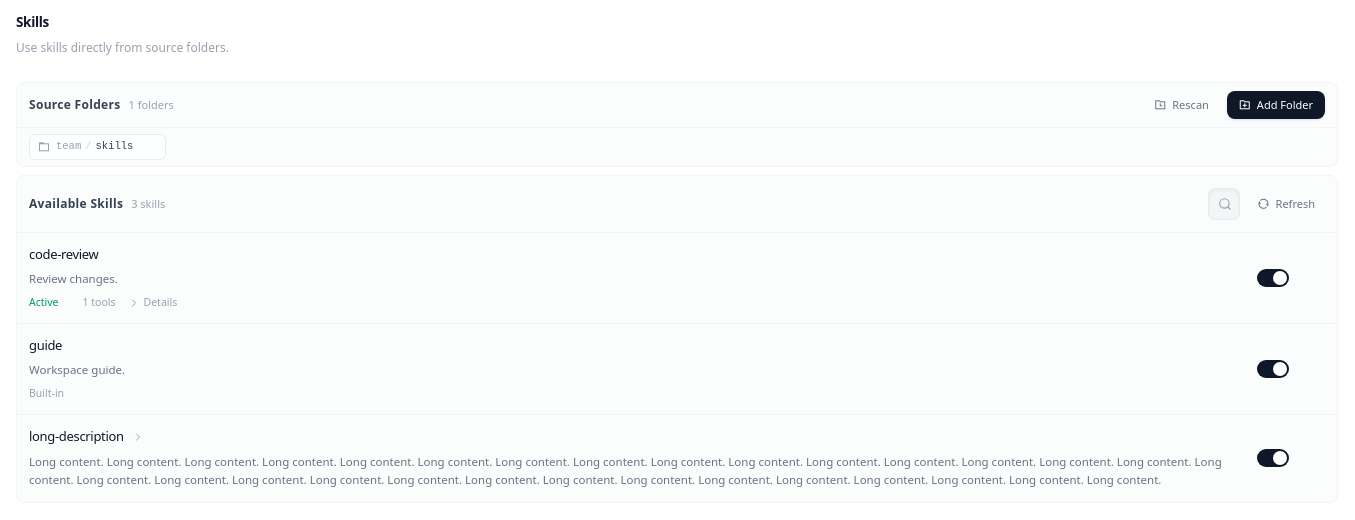
Test case: offers accessible expansion only for truncated descriptions
The image size is (1355, 520).
Click the button named "Expand description for long-description": (138, 437) [128,427,148,447]
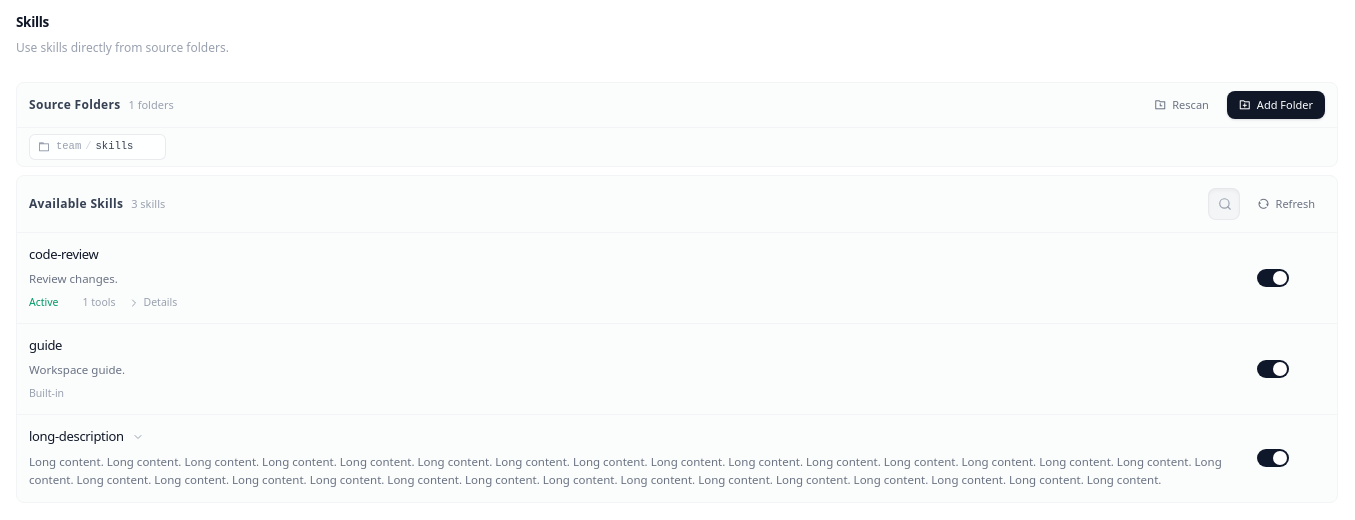
Expected: the button named "Collapse description for long-description" is expanded
Click the button named "Collapse description for long-description": (138, 437) [128,427,148,447]
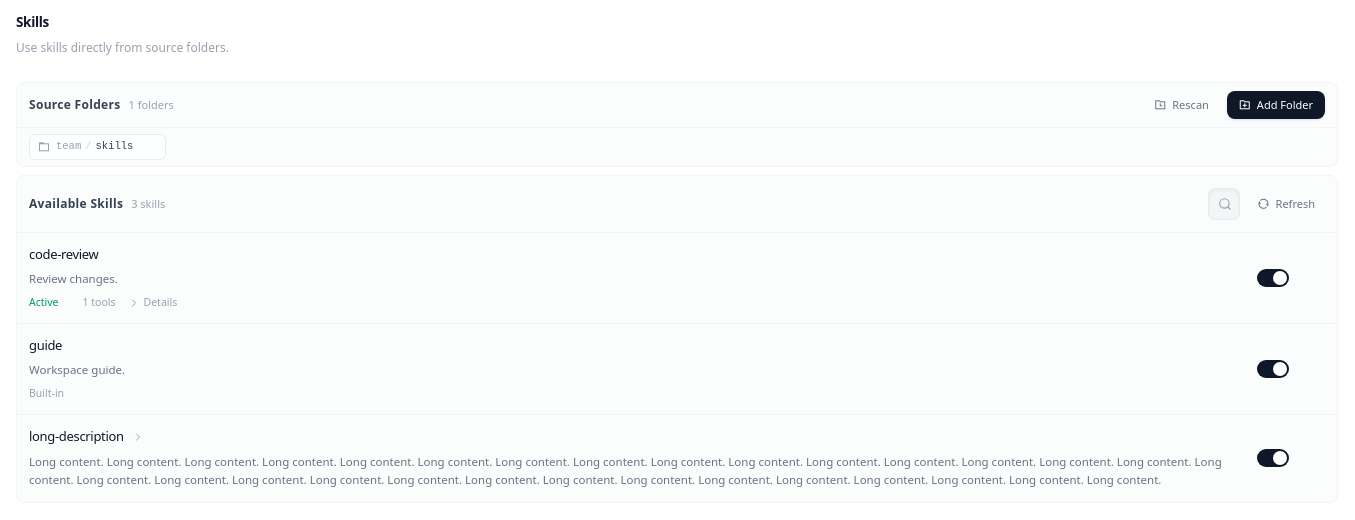
Expected: the button named "Expand description for long-description" is collapsed, [128,427,148,447]
